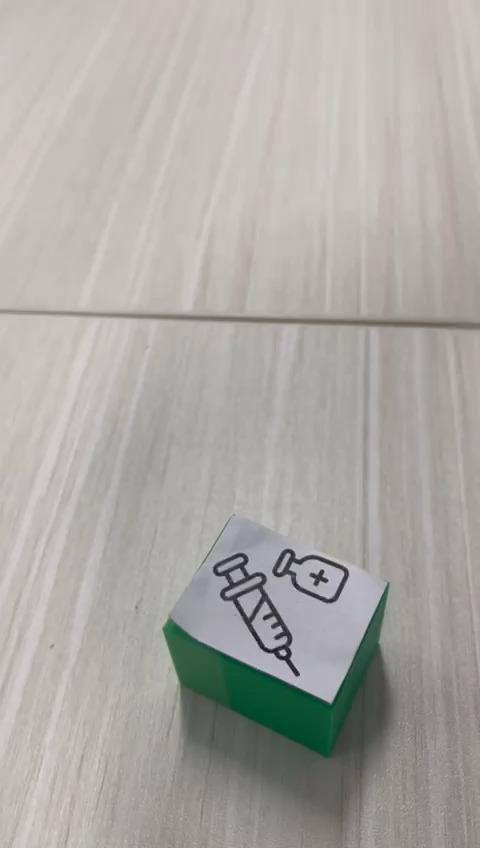antiseptic cream: (161, 512, 390, 757)
